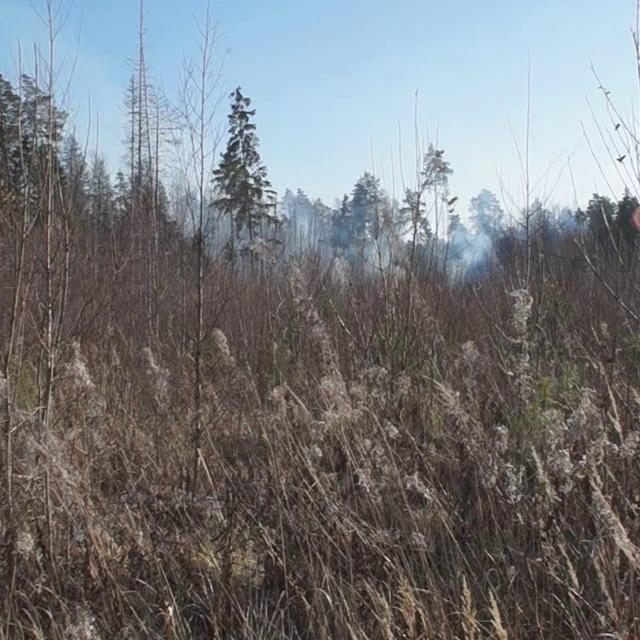Smoke: (159, 161, 562, 300)
